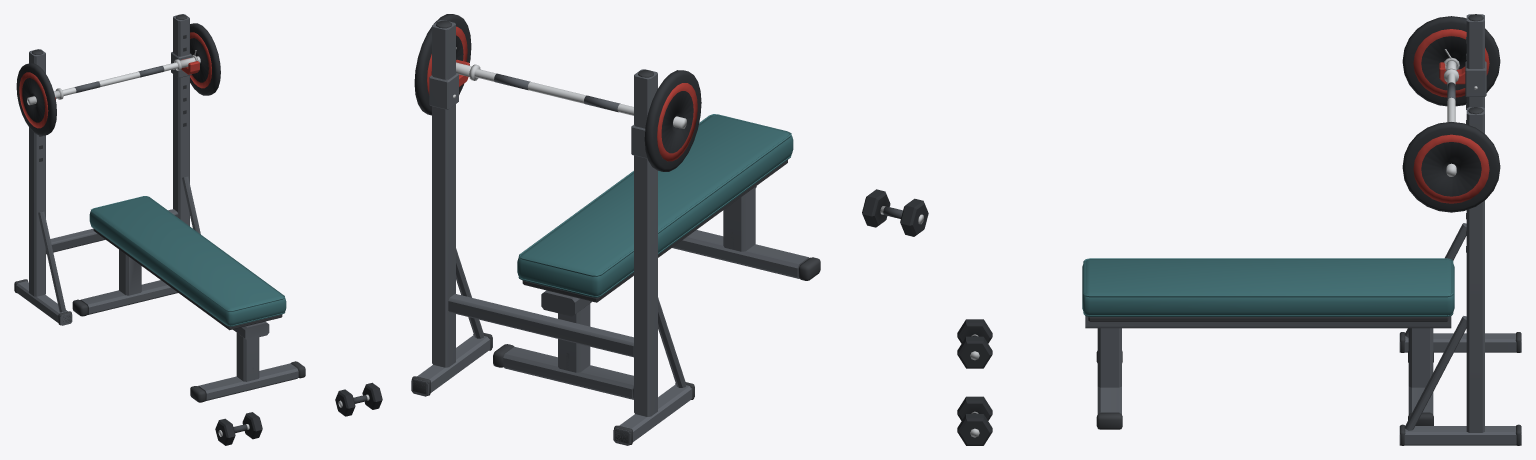
Rendered from weightBench.glb.
3 views of the same model, side by side, from view 1: azimuth 30°, elevation 25°; view 2: azimuth 150°, elevation 25°; view 3: azimuth 270°, elevation 25° (orthographic). The views are drawn at different scales.
Visible parts, largest first — view 1: body, bar; view 2: body, bar; view 3: body, bar.
Boxes of the visible parts, box(x1,y1,x2,y2) form: body: box(14, 14, 382, 445); bar: box(16, 23, 220, 135); body: box(411, 20, 928, 445); bar: box(414, 14, 701, 171); body: box(957, 14, 1521, 445); bar: box(1402, 16, 1500, 212).
Size of the model in its own units: 0.9 by 1.2 by 1.85.
